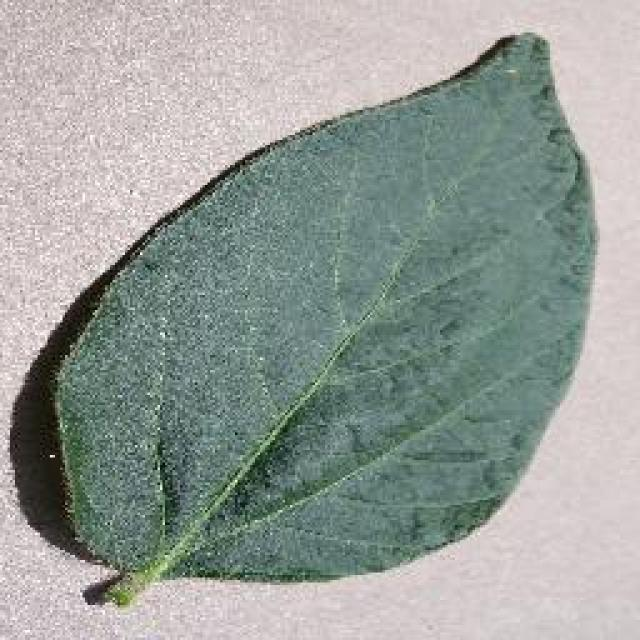Soy_healthy: (112, 128, 584, 551)
